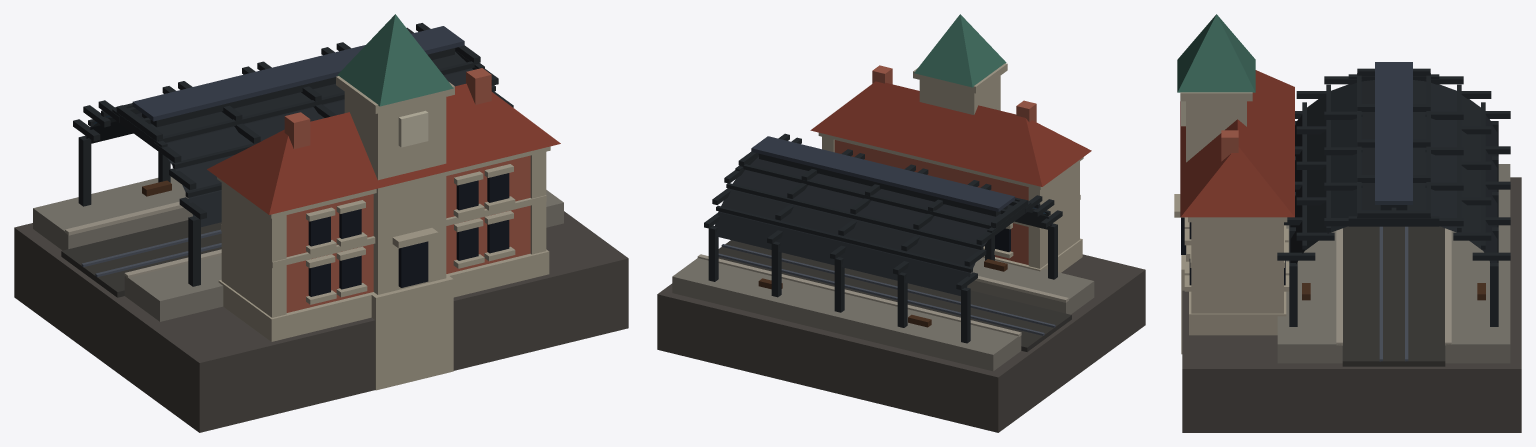
Rendered from rail_station.glb.
The picture shows the model from 3 angles, left to right: view 1: azimuth 30°, elevation 25°; view 2: azimuth 150°, elevation 25°; view 3: azimuth 270°, elevation 25°; orthographic projection. The views are drawn at different scales.
Parts seen in each view (by area): view 1: RailStation1Track; view 2: RailStation1Track; view 3: RailStation1Track.
Boxes of the visible parts, x1=… form: RailStation1Track: x1=14, y1=14, x2=628, y2=432; RailStation1Track: x1=657, y1=14, x2=1145, y2=432; RailStation1Track: x1=1174, y1=14, x2=1521, y2=432.
Size of the model in its own units: 2.38 by 1.87 by 1.82.
